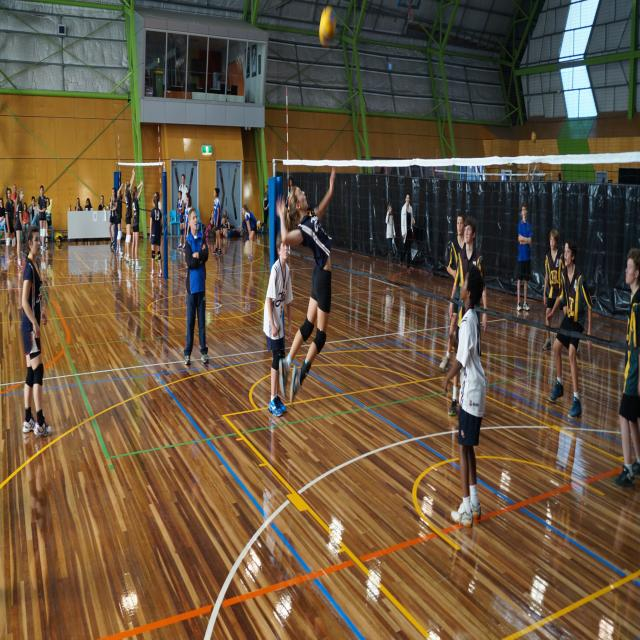body: (274, 162, 344, 406), (546, 499, 639, 637), (442, 261, 488, 530), (544, 236, 594, 422), (447, 212, 488, 421), (20, 220, 53, 437), (613, 246, 640, 492), (108, 249, 167, 359), (262, 230, 294, 417), (542, 228, 580, 353), (438, 211, 466, 373), (183, 207, 210, 366), (0, 256, 54, 327), (19, 440, 54, 536), (516, 200, 533, 314), (516, 154, 566, 184), (399, 192, 416, 274), (130, 180, 144, 270), (123, 167, 136, 263), (149, 194, 163, 278), (5, 187, 18, 263), (14, 188, 26, 270), (242, 203, 258, 261), (242, 262, 257, 316), (115, 180, 125, 256), (212, 188, 223, 256), (213, 258, 225, 316), (385, 204, 396, 266), (37, 184, 47, 252), (154, 191, 163, 263), (176, 189, 186, 251), (109, 186, 117, 250), (178, 173, 189, 210), (68, 274, 106, 284), (184, 192, 192, 238), (27, 196, 39, 226), (0, 198, 7, 246), (45, 197, 52, 243), (263, 185, 269, 234), (22, 202, 29, 242), (72, 240, 108, 247), (286, 177, 294, 208), (11, 184, 18, 219), (98, 194, 106, 210), (85, 197, 94, 211), (221, 217, 228, 234), (75, 197, 83, 211), (210, 210, 215, 229), (224, 210, 229, 222)
